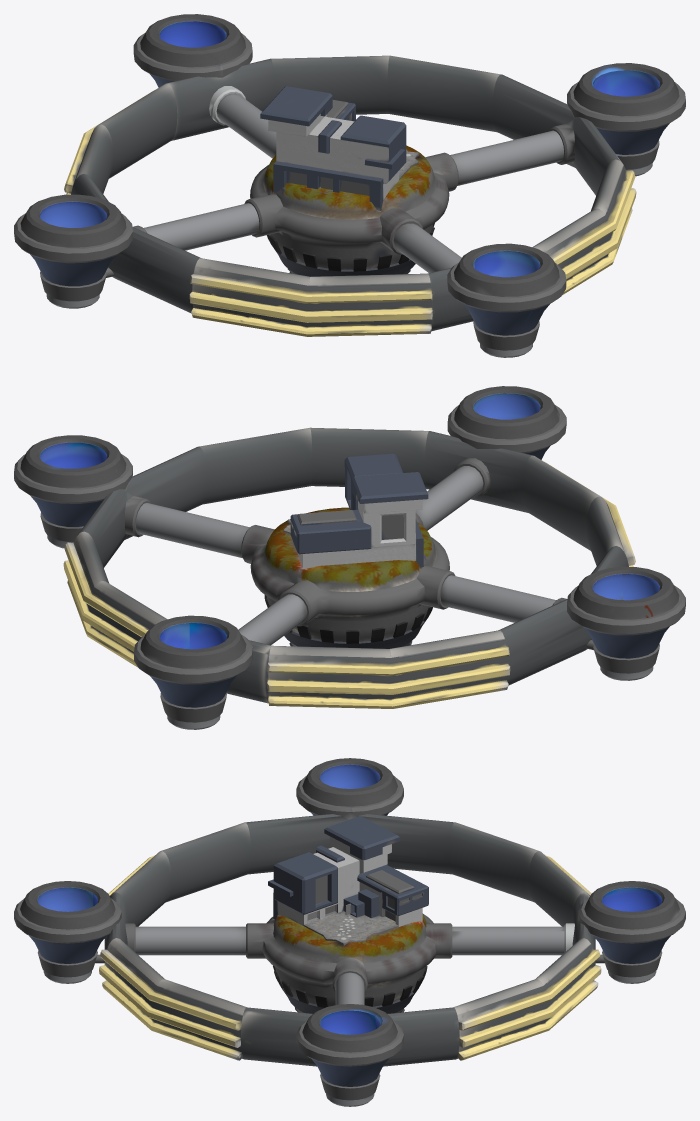
Rendered from house.glb.
3 views of the same model, one above another, from view 1: azimuth 30°, elevation 25°; view 2: azimuth 150°, elevation 25°; view 3: azimuth 270°, elevation 25° (orthographic). The views are drawn at different scales.
Parts seen in each view (by area): view 1: Object_2, Object_3; view 2: Object_2, Object_3; view 3: Object_2, Object_3.
Part boxes in pixels (x1,y1,x2,y2): Object_2: (14, 14, 685, 357); Object_3: (244, 126, 567, 276); Object_2: (14, 386, 685, 729); Object_3: (132, 461, 486, 648); Object_2: (14, 758, 685, 1106); Object_3: (134, 923, 452, 1013).
Bounding box in the file's own units: 4.97 × 1.41 × 4.89.
Materials: 1 (1 with a texture image).
